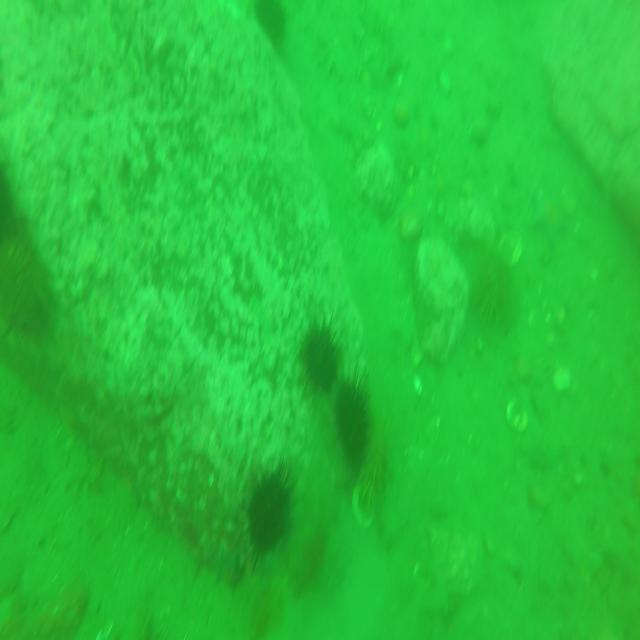echinus: (242, 455, 295, 557), (0, 224, 47, 336), (466, 240, 516, 334), (333, 375, 373, 474), (297, 315, 338, 391), (357, 430, 396, 506), (250, 0, 288, 55)
holothurian: (305, 19, 365, 79)
